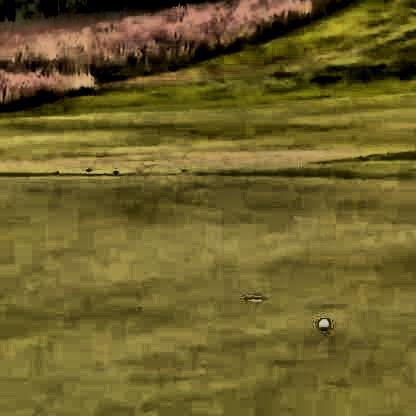golfball: (315, 315, 327, 329)
